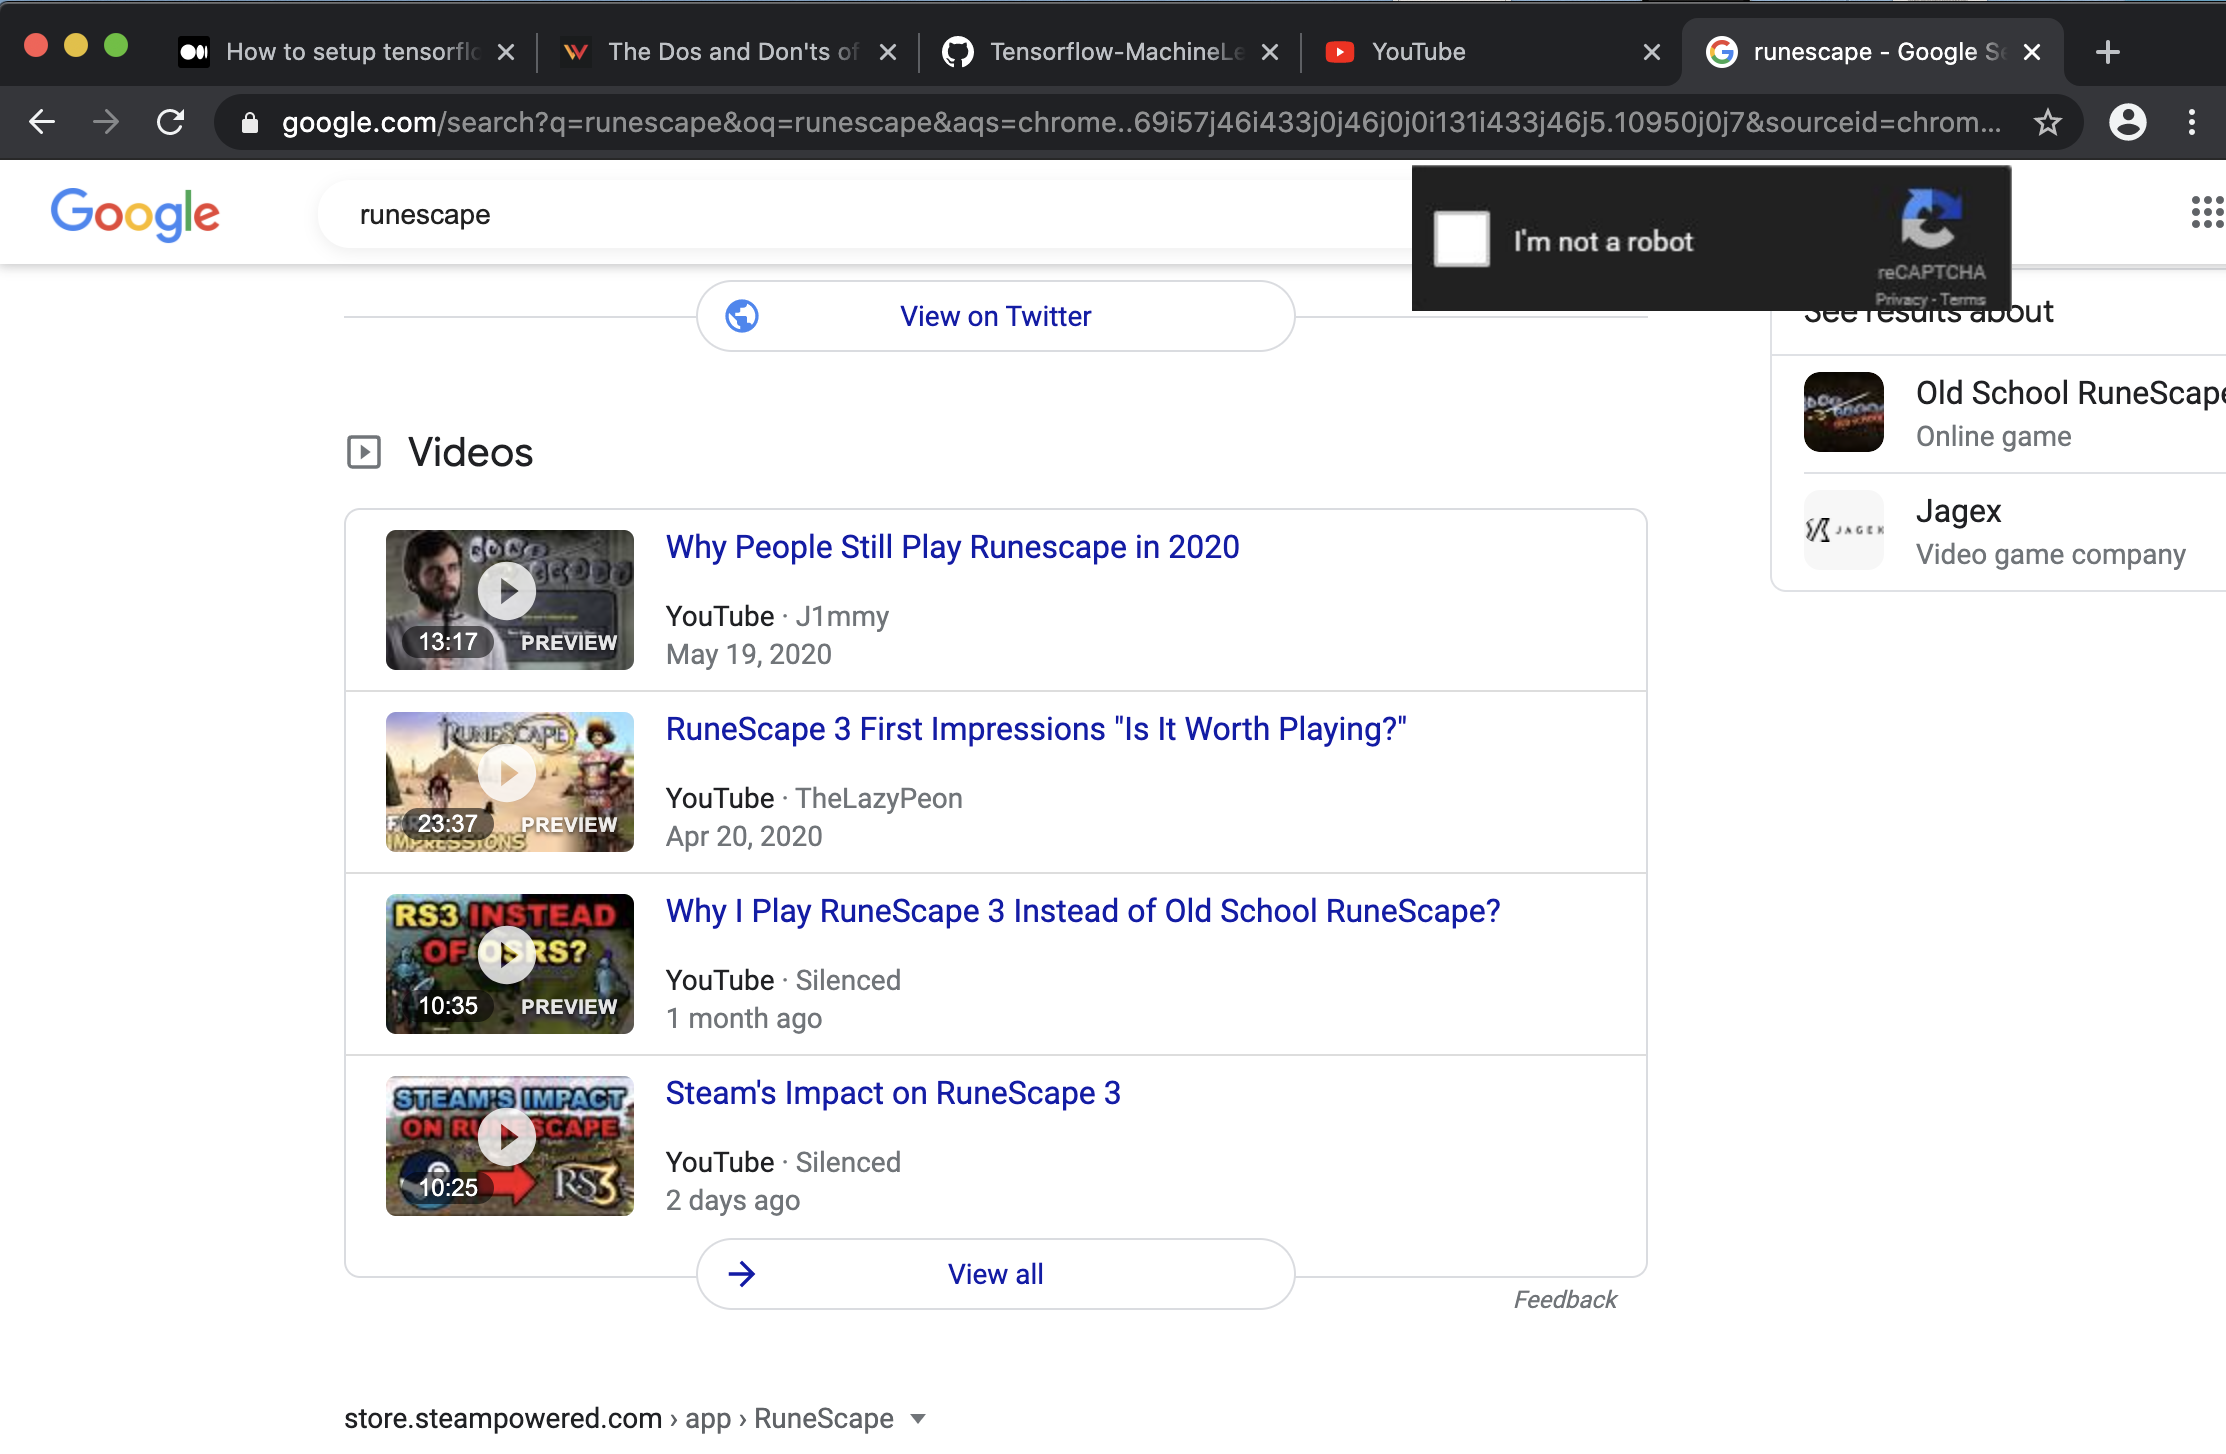captcha: (1399, 149, 2039, 329)
